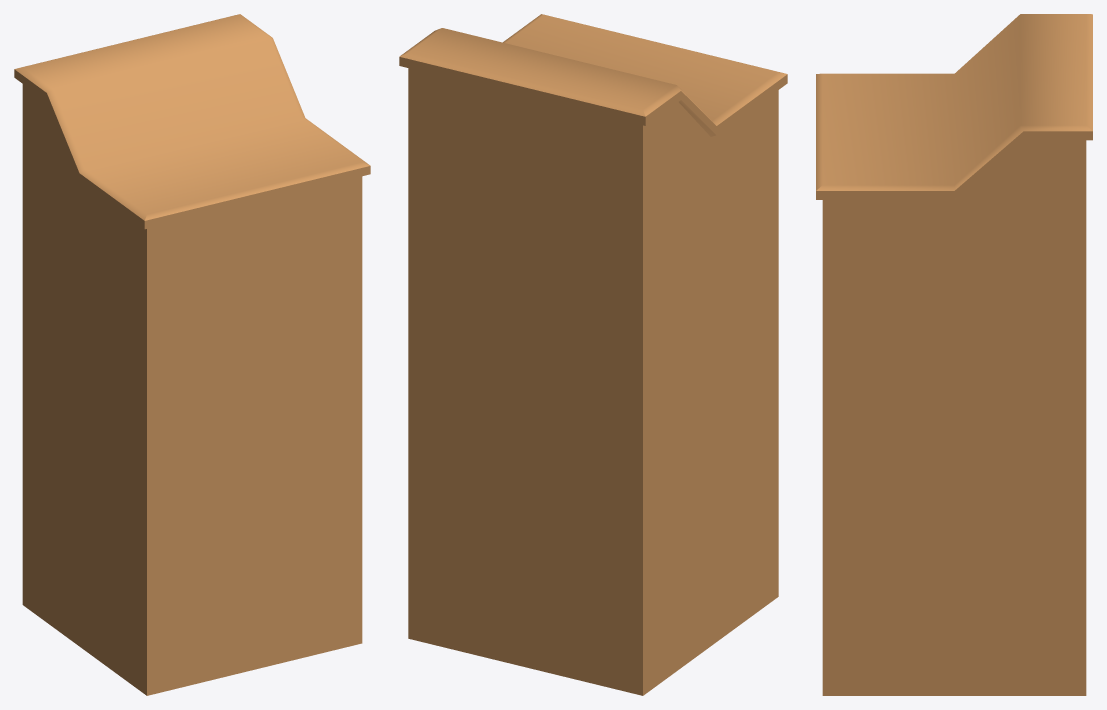
The model's file is Sand 1 R 1.fbx.
3 views of the same model, side by side, from view 1: azimuth 30°, elevation 25°; view 2: azimuth 150°, elevation 25°; view 3: azimuth 270°, elevation 25° (orthographic). The views are drawn at different scales.
Parts seen in each view (by area): view 1: Sand_1_R__1; view 2: Sand_1_R__1; view 3: Sand_1_R__1.
Part boxes in pixels (box(x1,y1,x2,y2)): Sand_1_R__1: box(14, 14, 370, 695); Sand_1_R__1: box(399, 14, 787, 695); Sand_1_R__1: box(816, 14, 1092, 695).
Bounding box in the file's own units: 4.2 × 9.55 × 4.2.
